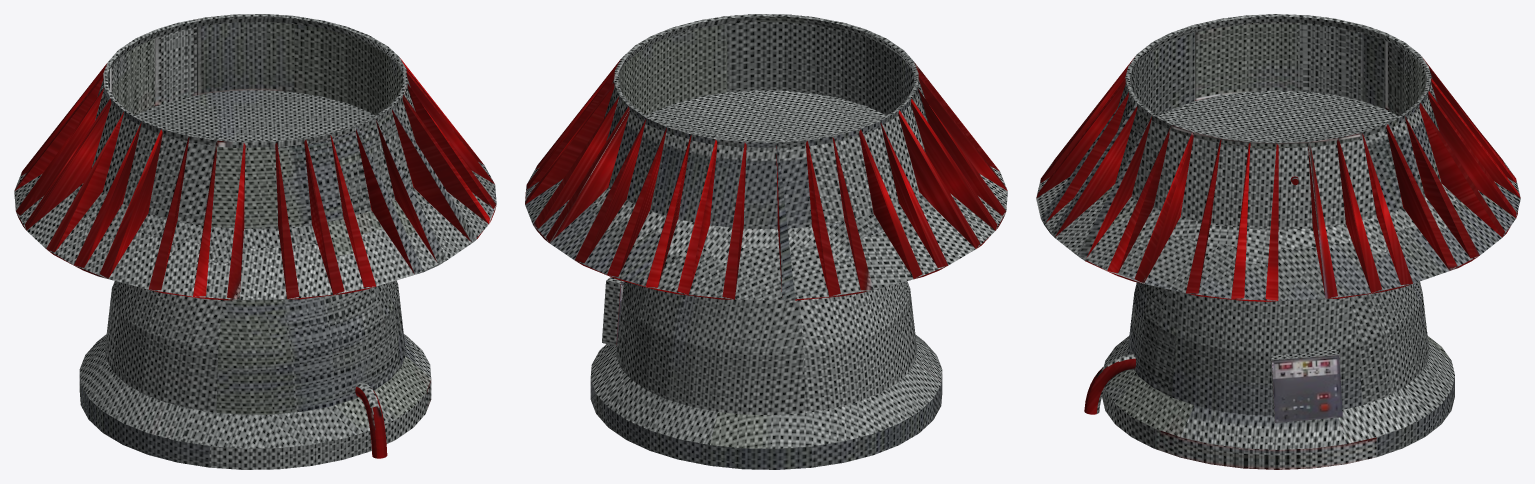
Rendered from TurretBase.obj.
3 renders of one model, left to right at view 1: azimuth 30°, elevation 25°; view 2: azimuth 150°, elevation 25°; view 3: azimuth 270°, elevation 25°, orthographic.
Size of the model in its own units: 3.21 by 2.33 by 3.21.
